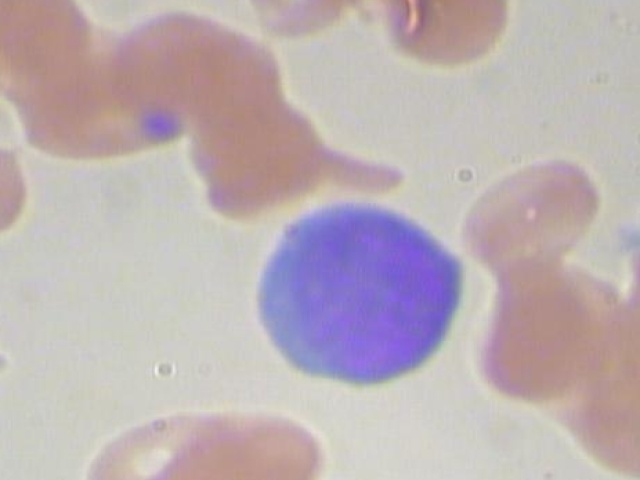RBC: (452, 146, 605, 273), (68, 402, 249, 480), (0, 123, 31, 249)
WBC: (231, 191, 475, 392)
